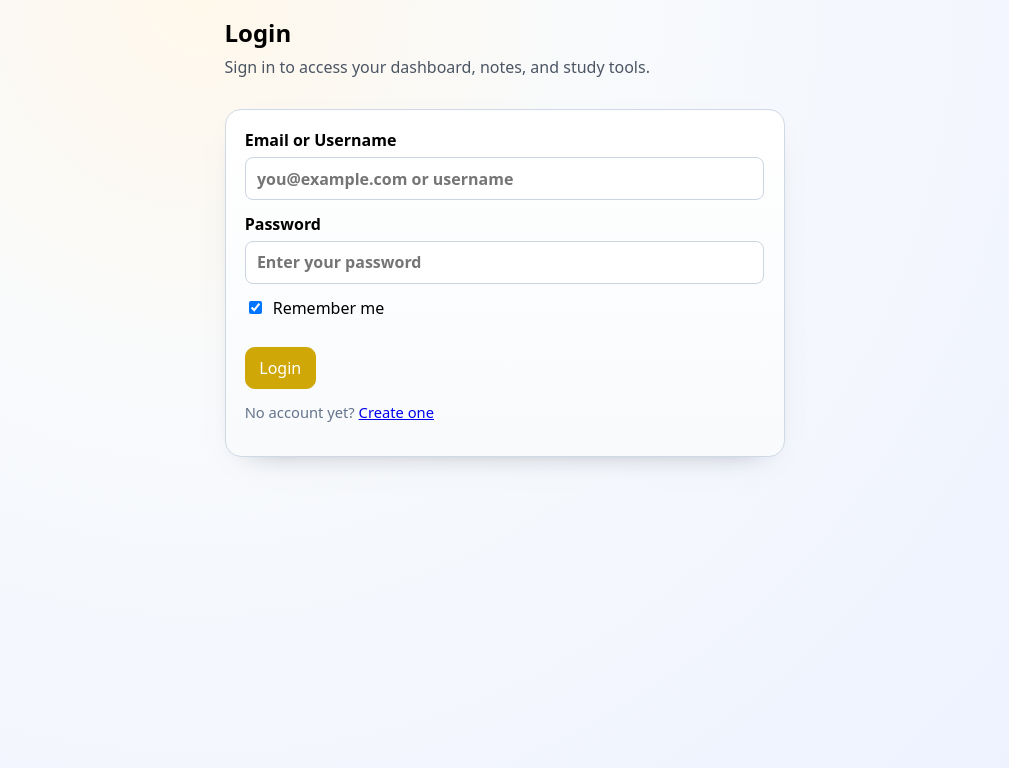
Test: LoginPage › shows loading state during login
Type "testuser" into the field labelled "Email or Username" at {"x": 504, "y": 179}, box [245, 157, 764, 200]
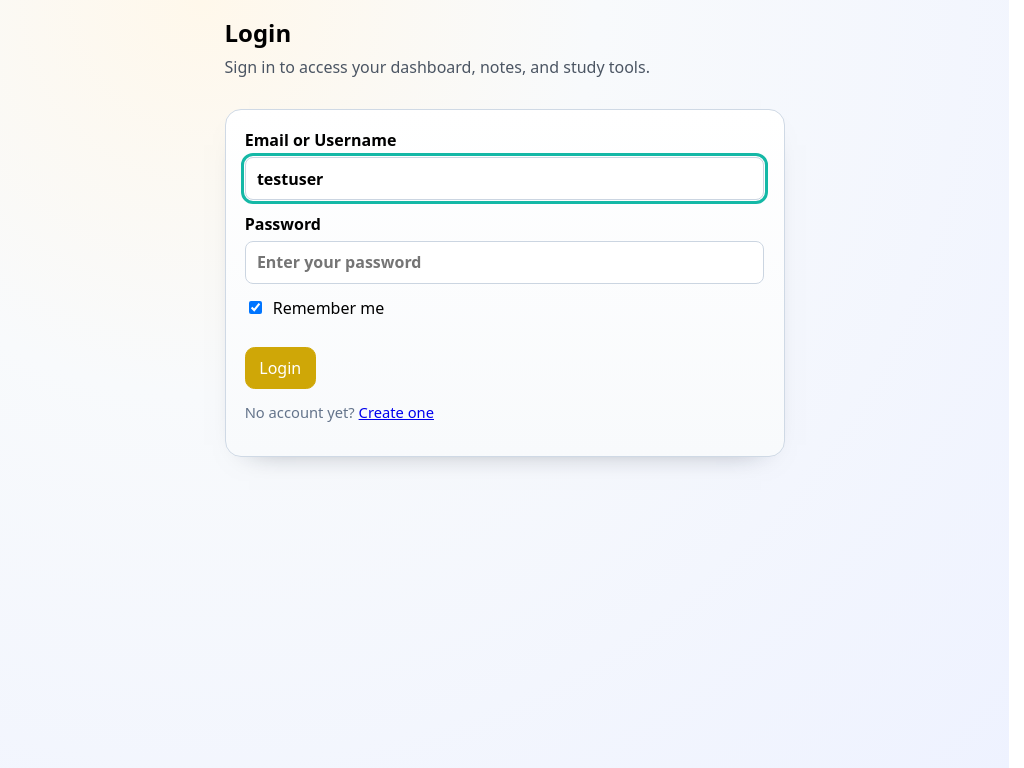
Type "password123" into the password field labelled "Password" at {"x": 504, "y": 262}, box [245, 240, 764, 284]
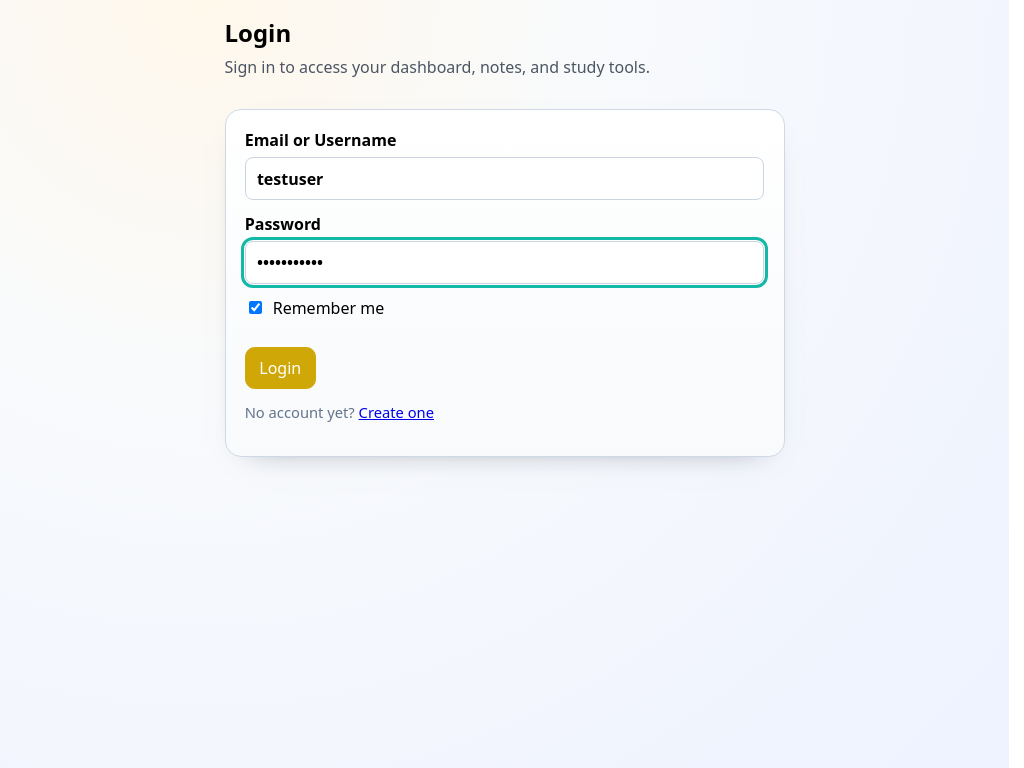
Click the button "Login" at {"x": 280, "y": 368}, box [245, 347, 316, 389]
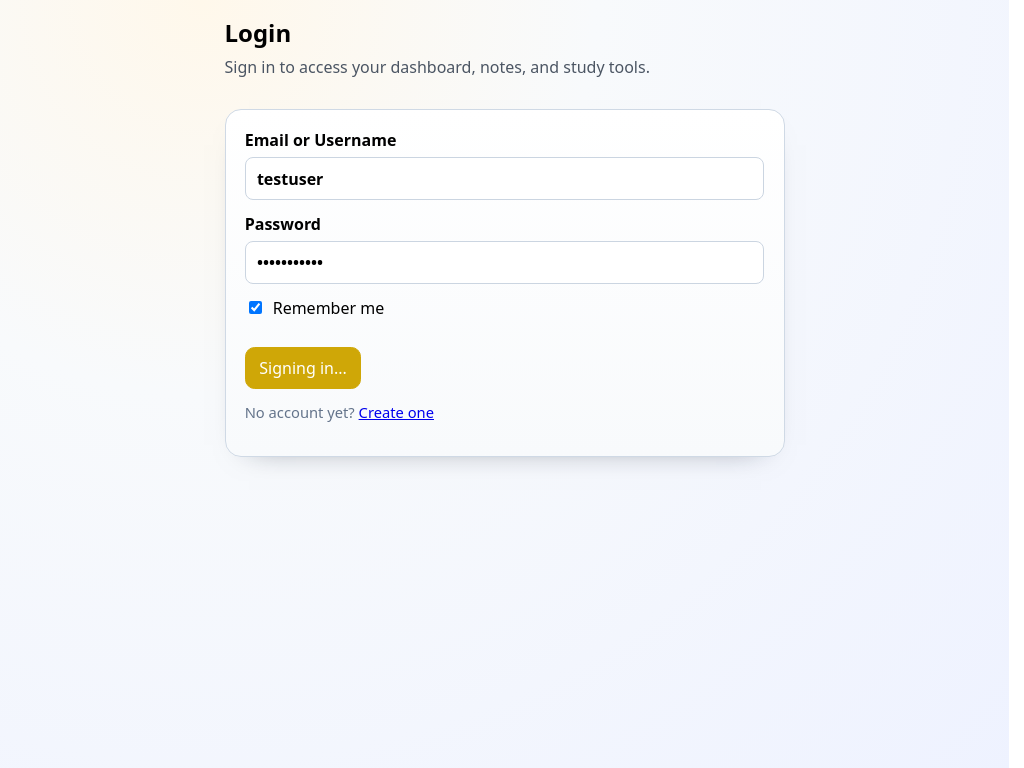
Expected: the button named "Login" reads "Signing in...", [245, 347, 361, 389]
Expected: the button named "Login" is disabled, [245, 347, 361, 389]
